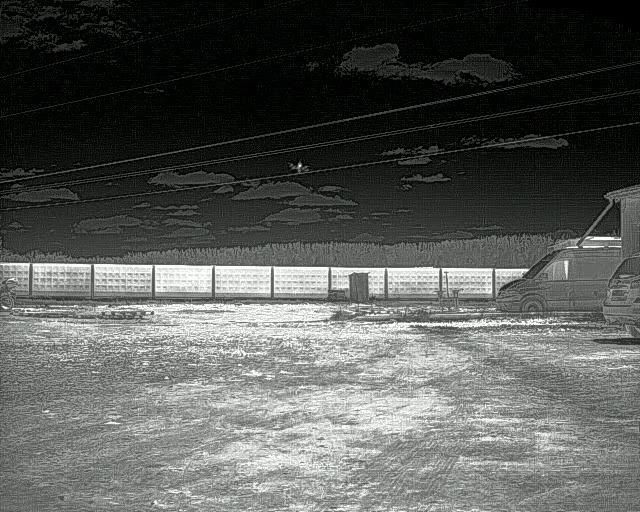drone-thermal: (286, 158, 312, 173)
